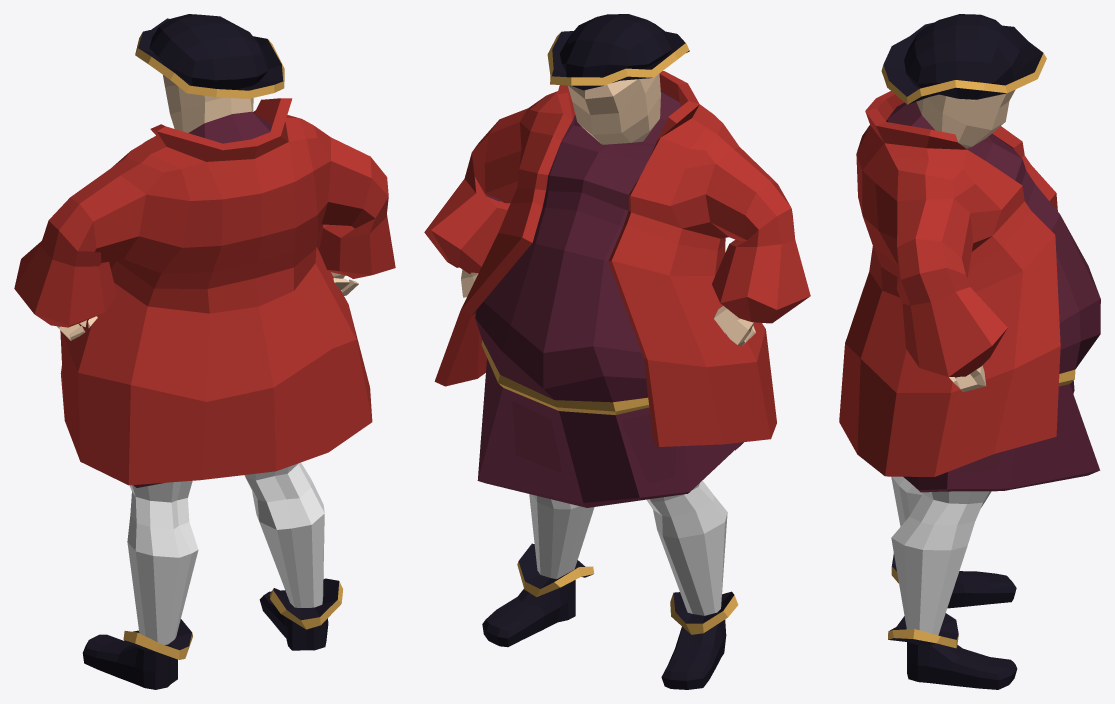
File: King_Valdas_Pose1.fbx
3 renders of one model, left to right at view 1: azimuth 30°, elevation 25°; view 2: azimuth 150°, elevation 25°; view 3: azimuth 270°, elevation 25°, orthographic. The views are drawn at different scales.
Visible parts, largest first — view 1: coat, body, hat; view 2: body, coat, hat; view 3: coat, body, hat.
Boxes of the visible parts, x1,y1,x2,y2 form: coat: (14, 98, 395, 485); body: (56, 75, 358, 689); hat: (135, 14, 284, 98); body: (461, 73, 755, 689); coat: (424, 71, 810, 446); hat: (547, 14, 689, 90); coat: (839, 91, 1060, 476); body: (886, 89, 1100, 689); hat: (881, 14, 1046, 104).
Size of the model in its own units: 0.6898 by 0.441 by 1.14.
